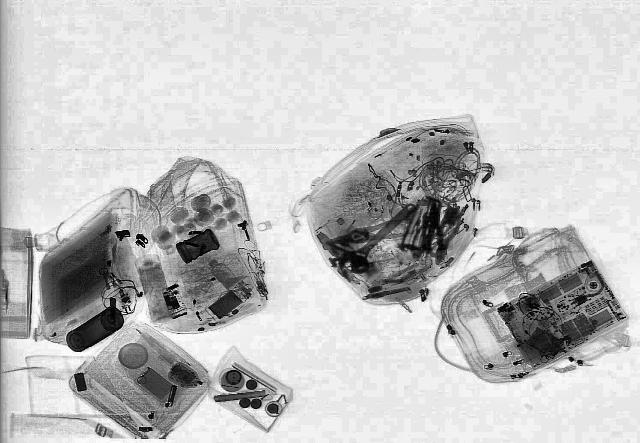Pliers: (426, 204, 464, 266)
Wrench: (336, 199, 426, 271)
